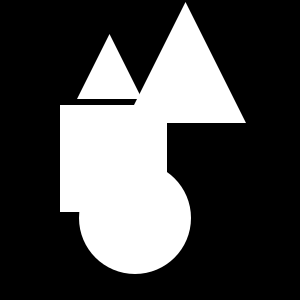circle: (60, 105, 167, 212)
rectangle: (79, 162, 191, 274)
triangle: (125, 2, 246, 123), (77, 34, 142, 99)
